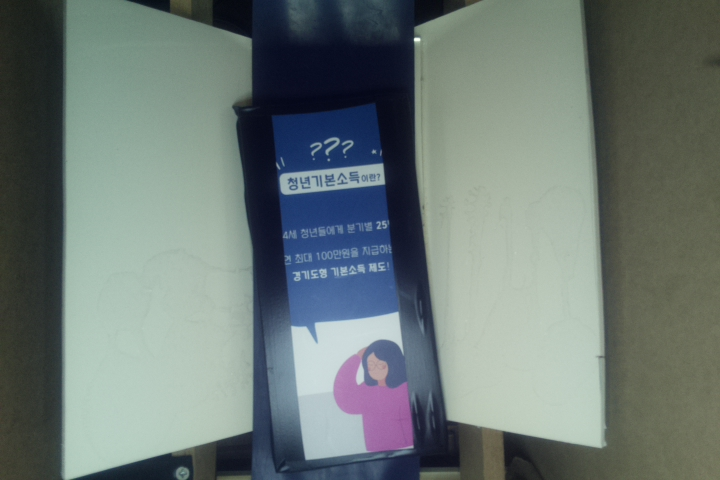book: (236, 94, 448, 472)
